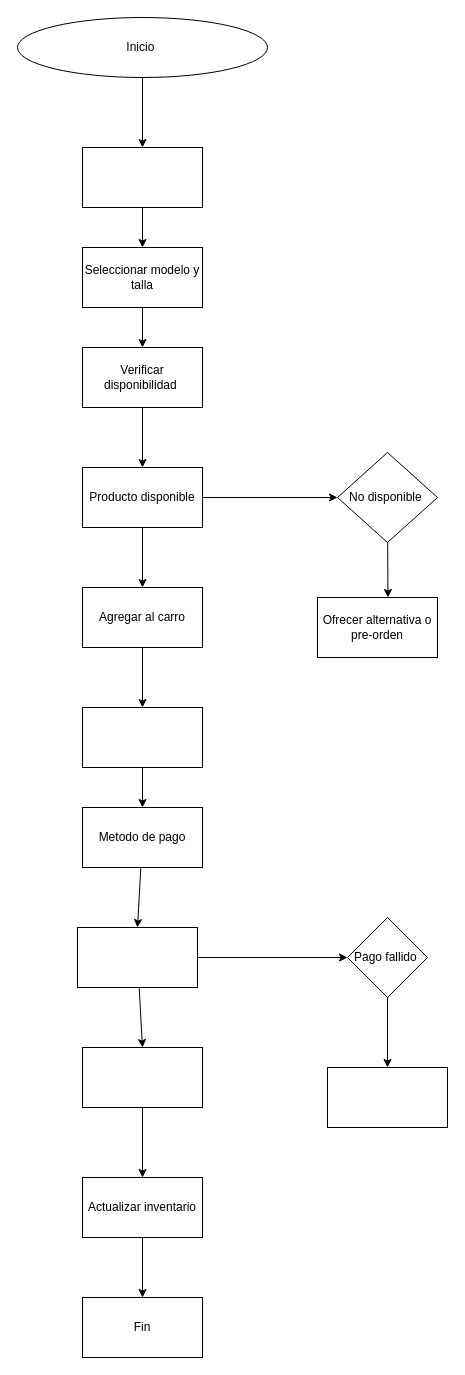
This 465x1375 diagram has some shape labels left out. Here are the shapes that lost their labels. From the top down, the centre of each, then its label:
At (142,177): "Buscar Tenis".
At (142,737): "Proceder al pago".
At (137,957): "Pago exitoso".
At (142,1077): "Envio de confirmacion".
At (387,1097): "Nuevo intento".
